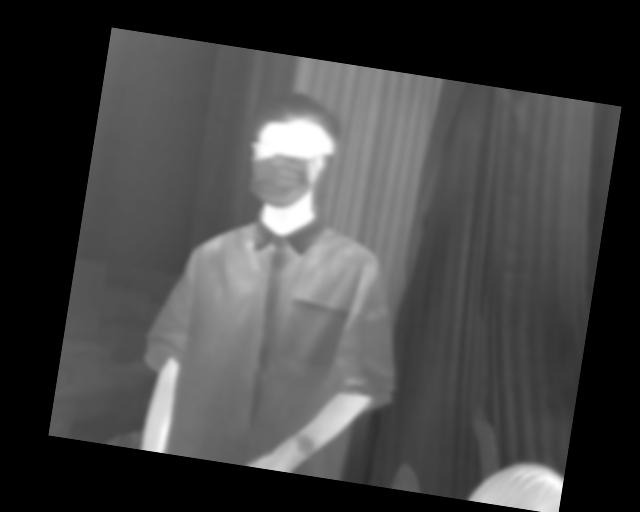face: (240, 85, 347, 215)
